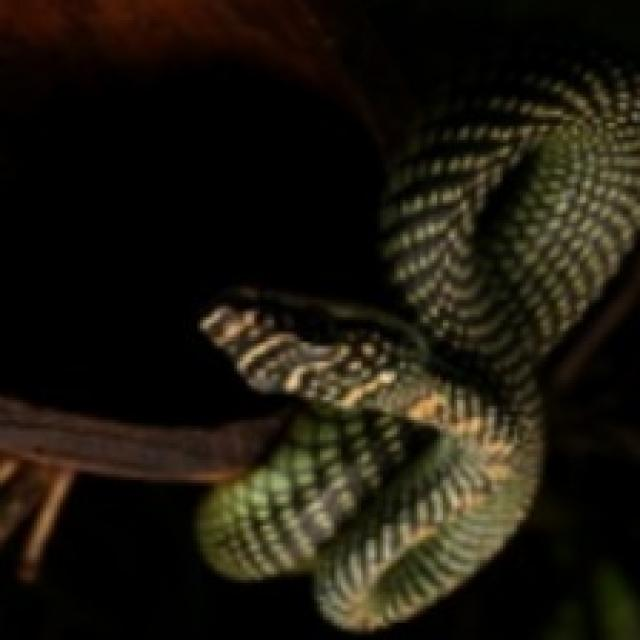paradise tree snake: (198, 74, 640, 629)
